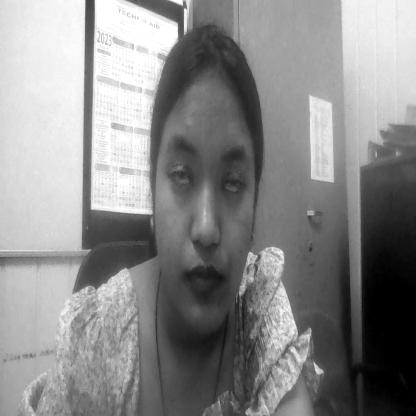Normal: (154, 72, 258, 327)
